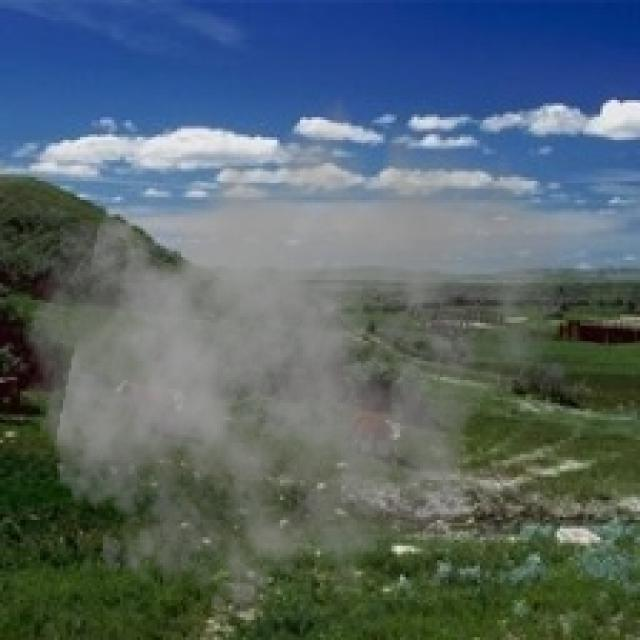smoke: (14, 74, 569, 637)
